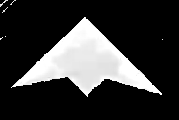Plane: (6, 13, 172, 102)
